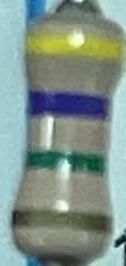Blue: (29, 87, 112, 124)
Green: (24, 148, 110, 178)
Side-Silver: (13, 208, 114, 236)
Yellow: (26, 33, 124, 68)
